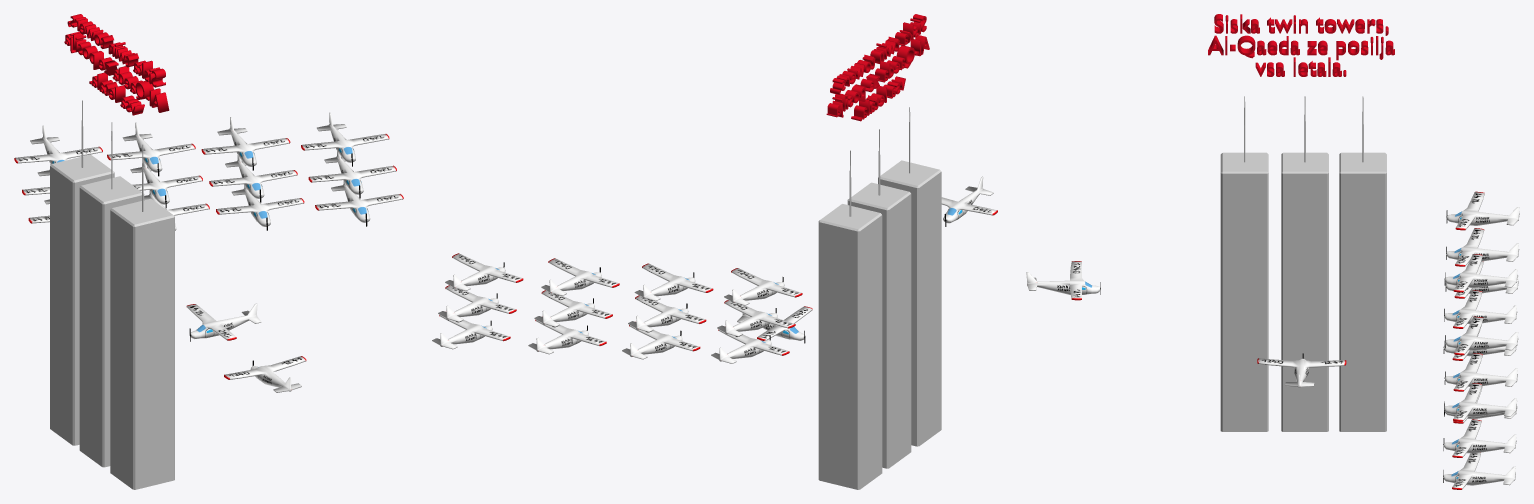
File: atlanta3.glb
3 views of the same model, side by side, from view 1: azimuth 30°, elevation 25°; view 2: azimuth 150°, elevation 25°; view 3: azimuth 270°, elevation 25° (orthographic).
Parts seen in each view (by area): view 1: Cube.001, Cube.002, Cube.003, Text, Plane.001, Plane.009, Plane.012, Plane.006, Plane, Plane.011, Plane.008, Plane.010 (+3 smaller); view 2: Cube.003, Cube.001, Cube.002, Text, Plane.009, Plane.003, Plane.006, Plane.012, Plane.002, Plane.011, Plane.008, Plane.005 (+6 smaller); view 3: Cube.001, Cube.003, Cube.002, Text, Plane.003, Plane.006, Plane.011, Plane.012, Plane.009, Plane, Plane.013, Plane.008 (+4 smaller).
Boxes of the visible parts, <box> form: Cube.001: <box>110,144,174,489</box>; Cube.002: <box>79,122,144,467</box>; Cube.003: <box>50,100,114,445</box>; Text: <box>64,14,169,115</box>; Plane.001: <box>186,303,261,341</box>; Plane.009: <box>201,117,290,170</box>; Plane.012: <box>301,112,389,166</box>; Plane.006: <box>107,122,195,176</box>; Plane: <box>224,356,306,392</box>; Plane.011: <box>308,151,396,198</box>; Plane.008: <box>209,155,297,202</box>; Plane.010: <box>216,185,304,230</box>; Cube.003: <box>818,150,882,489</box>; Cube.001: <box>878,107,941,446</box>; Cube.002: <box>847,129,911,468</box>; Text: <box>826,14,929,121</box>; Plane.009: <box>541,258,619,295</box>; Plane.003: <box>724,268,802,305</box>; Plane.006: <box>634,263,713,301</box>; Plane.012: <box>445,253,523,290</box>; Plane.002: <box>717,300,795,336</box>; Plane.011: <box>438,285,516,321</box>; Plane.008: <box>534,290,612,326</box>; Plane.005: <box>628,295,706,332</box>; Cube.001: <box>1220,96,1268,431</box>; Cube.003: <box>1339,96,1386,431</box>; Cube.002: <box>1281,96,1328,431</box>; Text: <box>1208,14,1394,76</box>; Plane.003: <box>1446,191,1519,230</box>; Plane.006: <box>1444,254,1517,292</box>; Plane.011: <box>1443,419,1516,457</box>; Plane.012: <box>1444,383,1516,421</box>; Plane.009: <box>1445,316,1518,355</box>; Plane: <box>1026,261,1100,300</box>; Plane.013: <box>1443,452,1515,489</box>; Plane.008: <box>1444,353,1517,391</box>.
Size of the model in its own units: 18.47 by 18.81 by 20.66.
3 materials, 1 textured.
